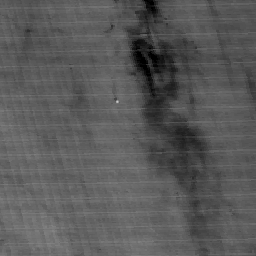Target: (113, 98, 120, 105)
